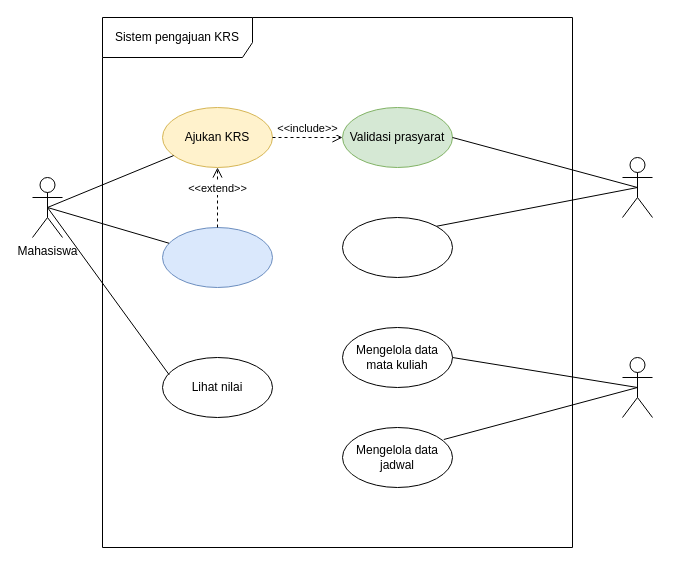
Image size: 699x565. Some labels were removed from this diagram. Each missing label, with the centre of its shape:
"Admin akademik" belongs at point 637,387.
"Dosen wali" belongs at point 637,187.
"Persetujuan KRS" belongs at point 397,247.
"Unduh bukti KRS" belongs at point 217,257.
